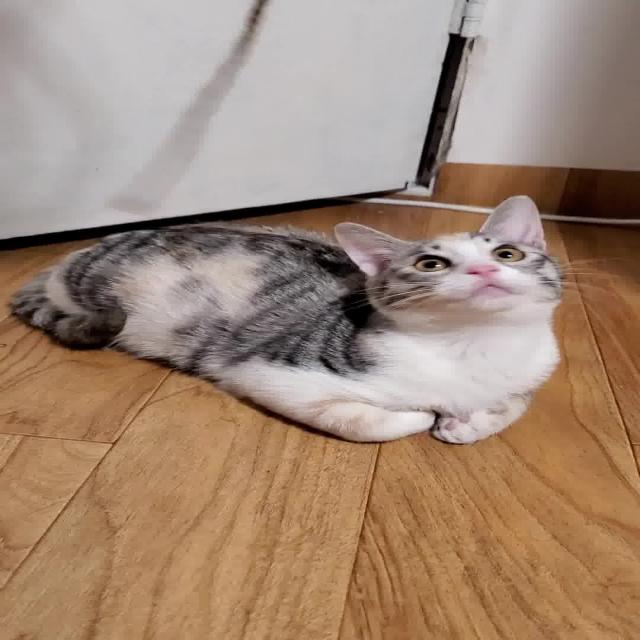cat: (8, 190, 581, 442)
